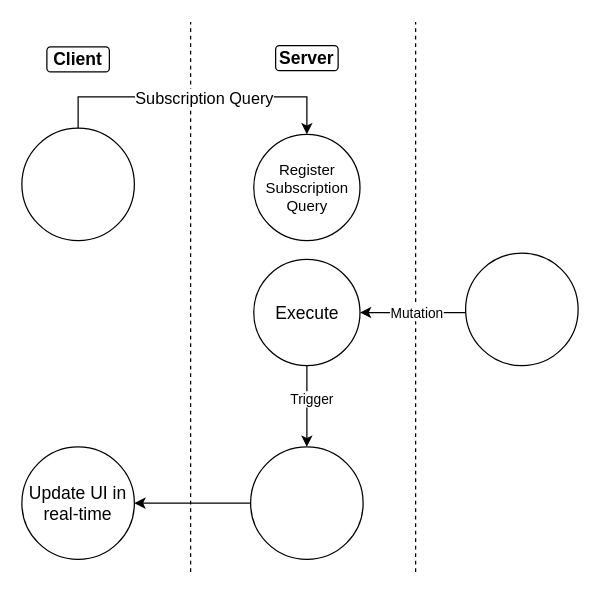
The diagram is 600 pixels wide and 595 high, and some of its shapes have lost their labels. The box of each missing label's shape, as (x1, y1, x2, y2) in pixels:
Event: (464, 252, 578, 366)
Execute Subscription Query: (249, 446, 363, 559)
